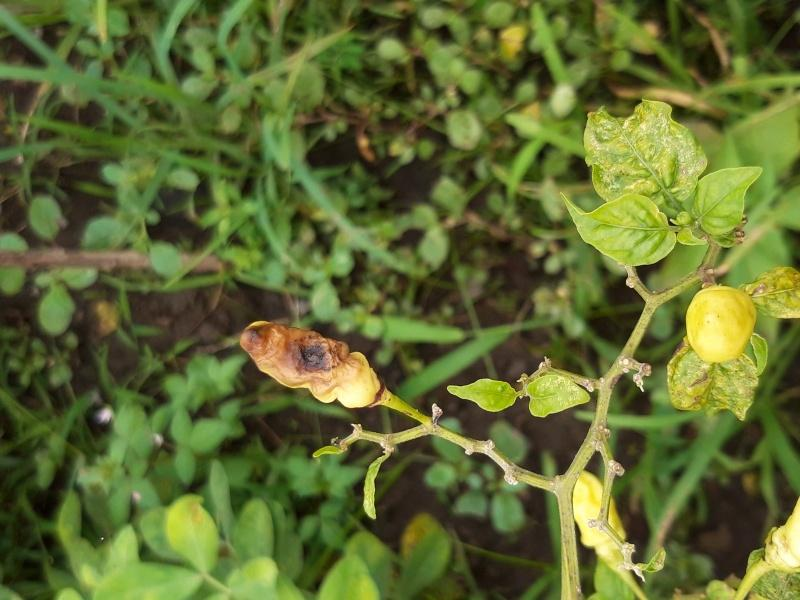antraknosa: (240, 320, 381, 410)
cabai_normal: (686, 286, 755, 364)
